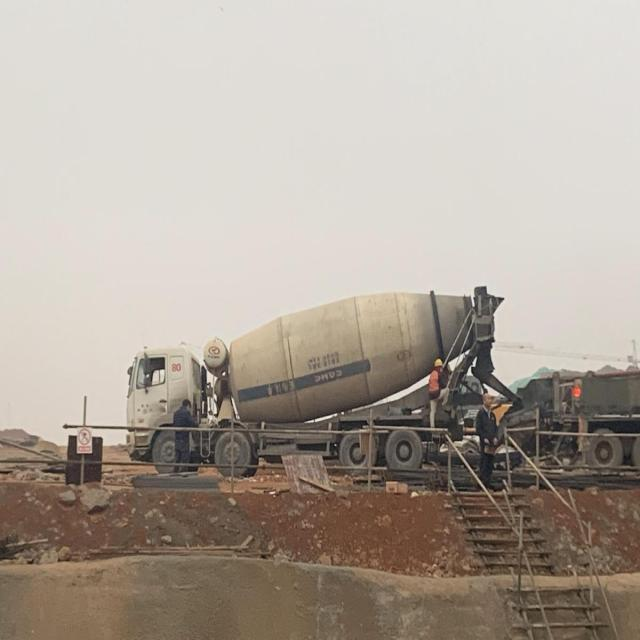truck: (561, 353, 640, 483)
